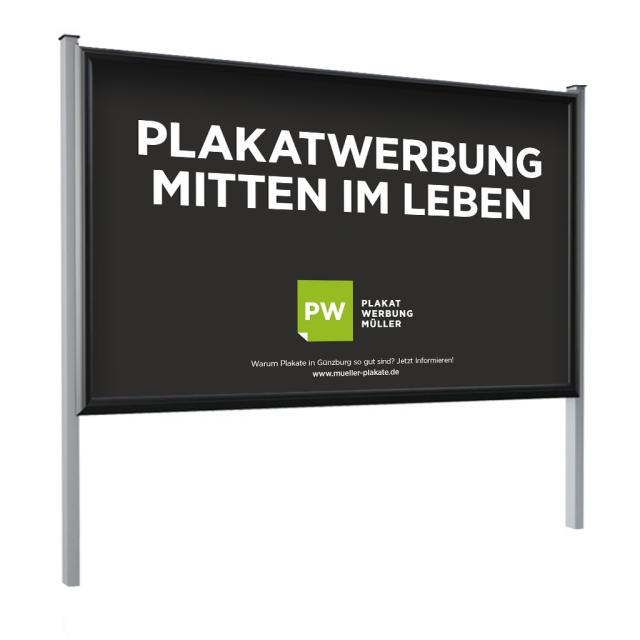Werbetafel frei: (56, 31, 593, 435)
